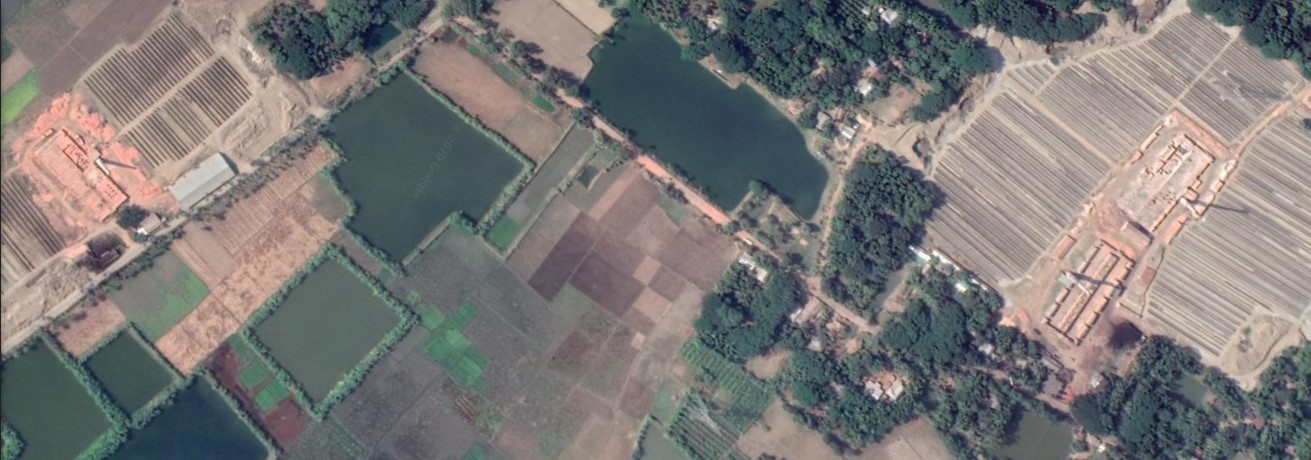kiln: (18, 126, 152, 211), (1038, 257, 1159, 336), (1134, 145, 1236, 236)
